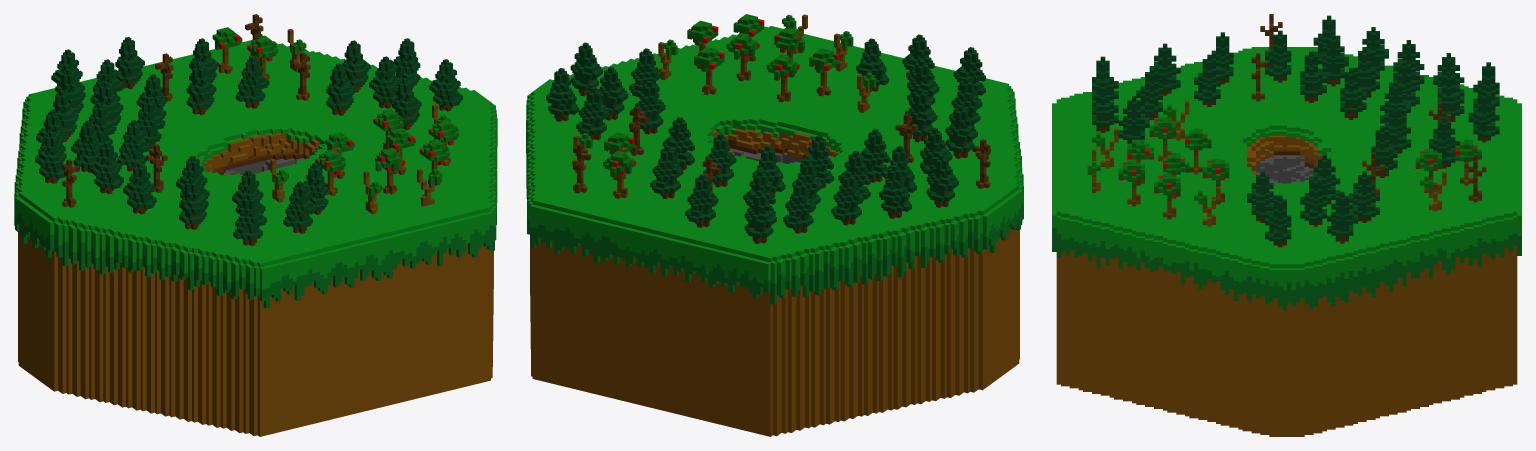
File: forest_hex_lowland.obj
3 renders of one model, left to right at view 1: azimuth 30°, elevation 25°; view 2: azimuth 150°, elevation 25°; view 3: azimuth 270°, elevation 25°, orthographic. The views are drawn at different scales.
Size of the model in its own units: 11.8 by 5.5 by 10.6.
Materials: 1 (1 with a texture image).
